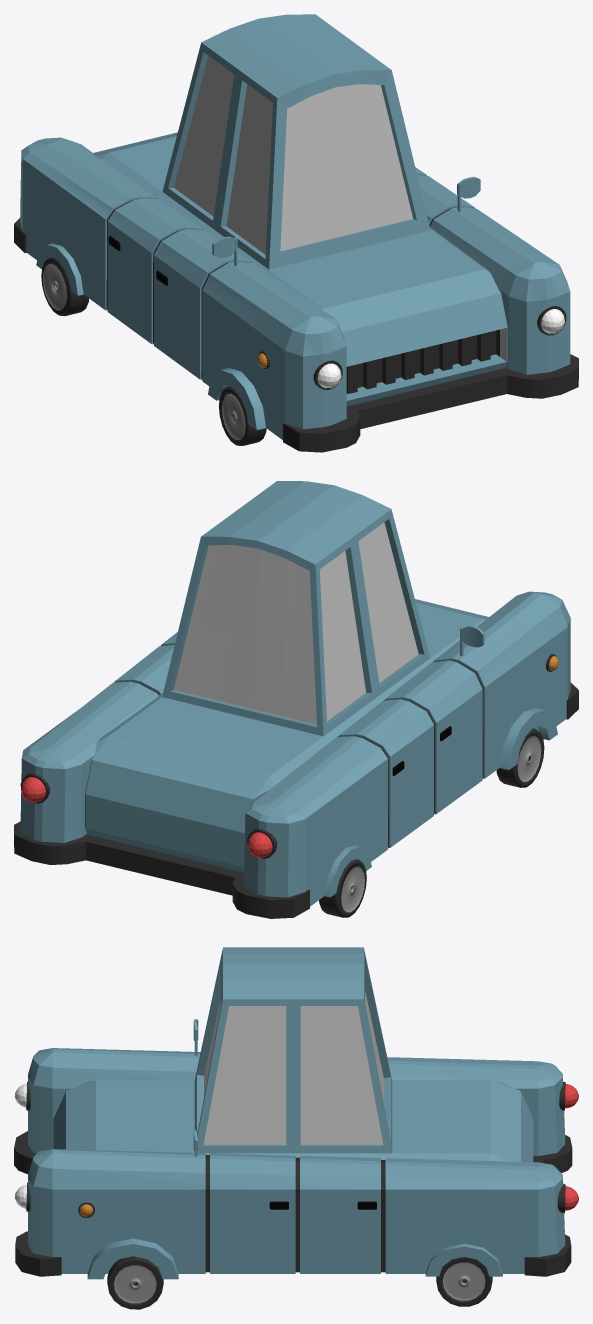
File: e97ece02-d502-46af-86a4-faa73f28e38d.glb
3 renders of one model, top to bottom at view 1: azimuth 30°, elevation 25°; view 2: azimuth 150°, elevation 25°; view 3: azimuth 270°, elevation 25°, orthographic. The views are drawn at different scales.
Visible parts, largest first — view 1: ChamferBox003; view 2: ChamferBox003; view 3: ChamferBox003.
Part boxes in pixels (left/top/right/bottom): ChamferBox003: left=14, top=14, right=578, bottom=452; ChamferBox003: left=14, top=481, right=578, bottom=918; ChamferBox003: left=14, top=947, right=578, bottom=1309.
Size of the model in its own units: 36.21 by 34.1 by 63.04.
